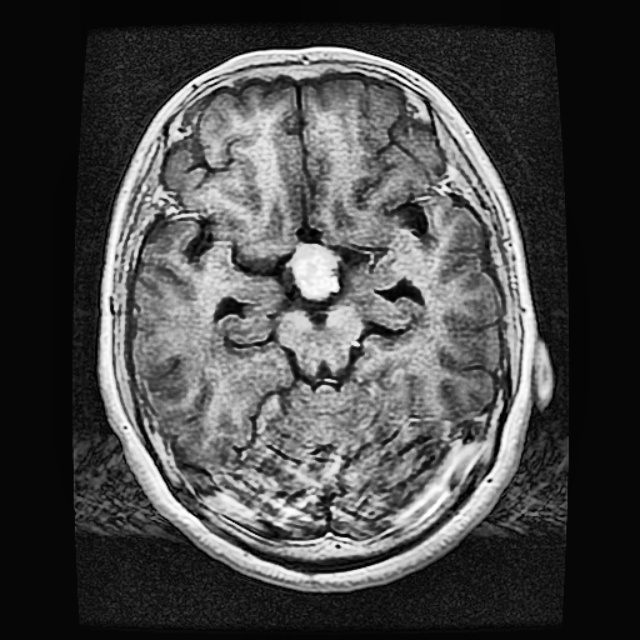Pituitary: (290, 242, 337, 299)
